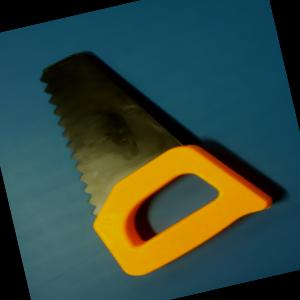serrote: (35, 15, 283, 286)
